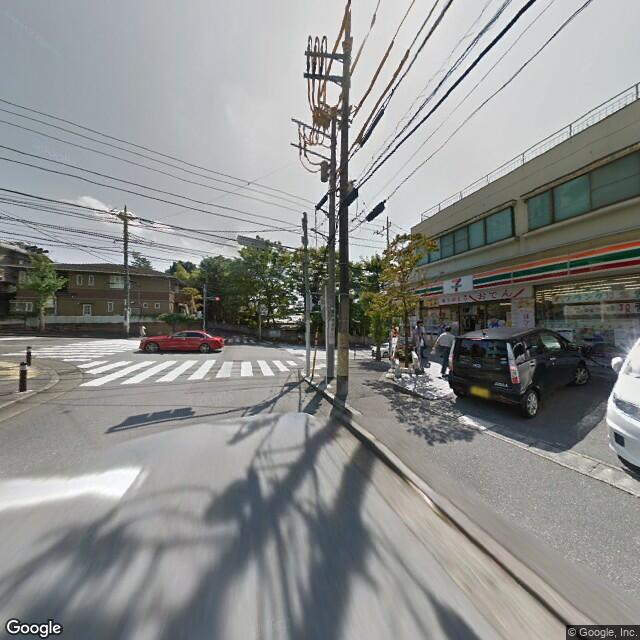7-eleven: (412, 236, 639, 303)
